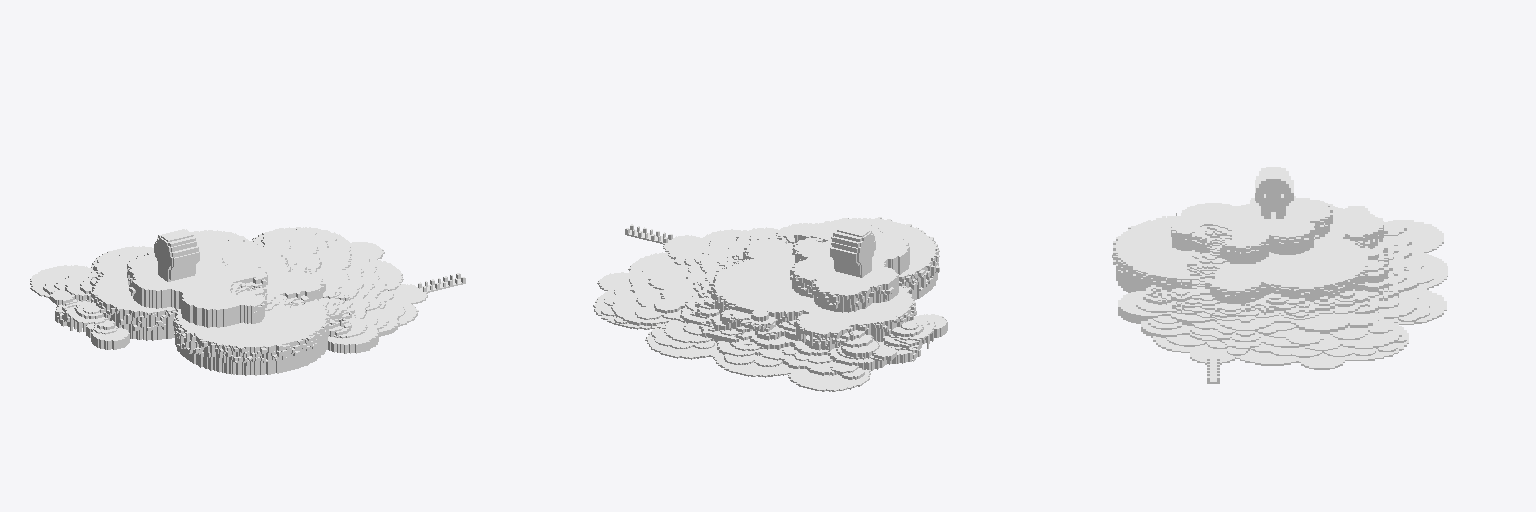
The model's file is IslaCalavera2-0.obj.
3 views of the same model, side by side, from view 1: azimuth 30°, elevation 25°; view 2: azimuth 150°, elevation 25°; view 3: azimuth 270°, elevation 25° (orthographic).
Visible parts, largest first — view 1: object 1; view 2: object 1; view 3: object 1.
Boxes of the visible parts, <box> form: object 1: <box>30,227,465,375</box>; object 1: <box>593,217,947,391</box>; object 1: <box>1112,167,1447,383</box>.
Bounding box in the file's own units: 24.3 × 5.8 × 20.5.